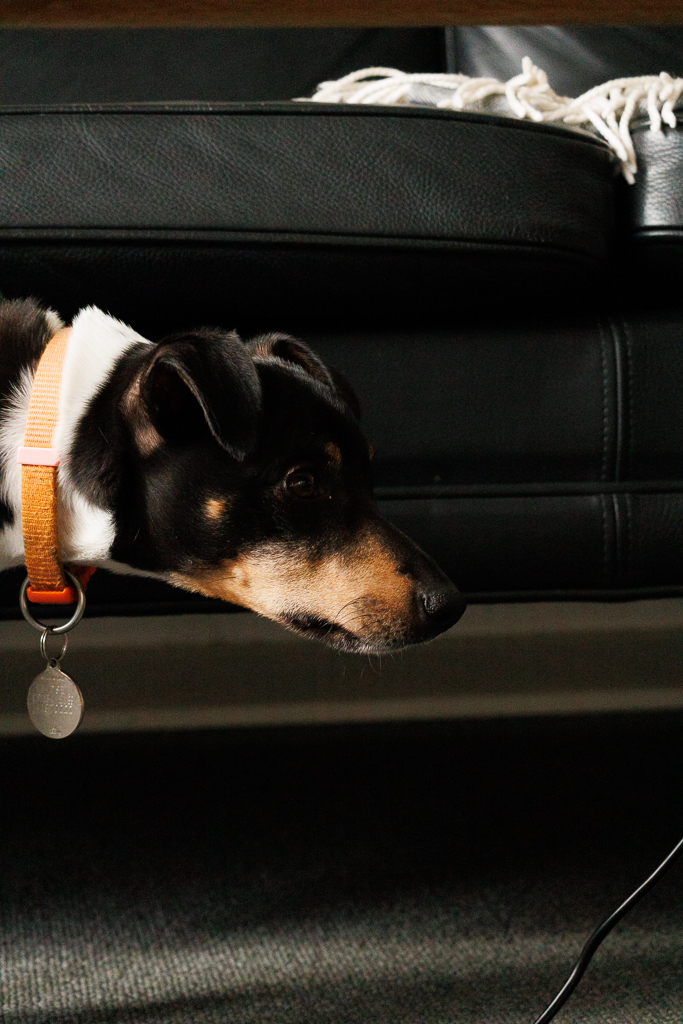Dog: (0, 289, 490, 744)
